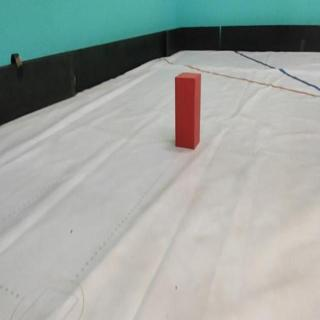redbox: (173, 72, 200, 149)
